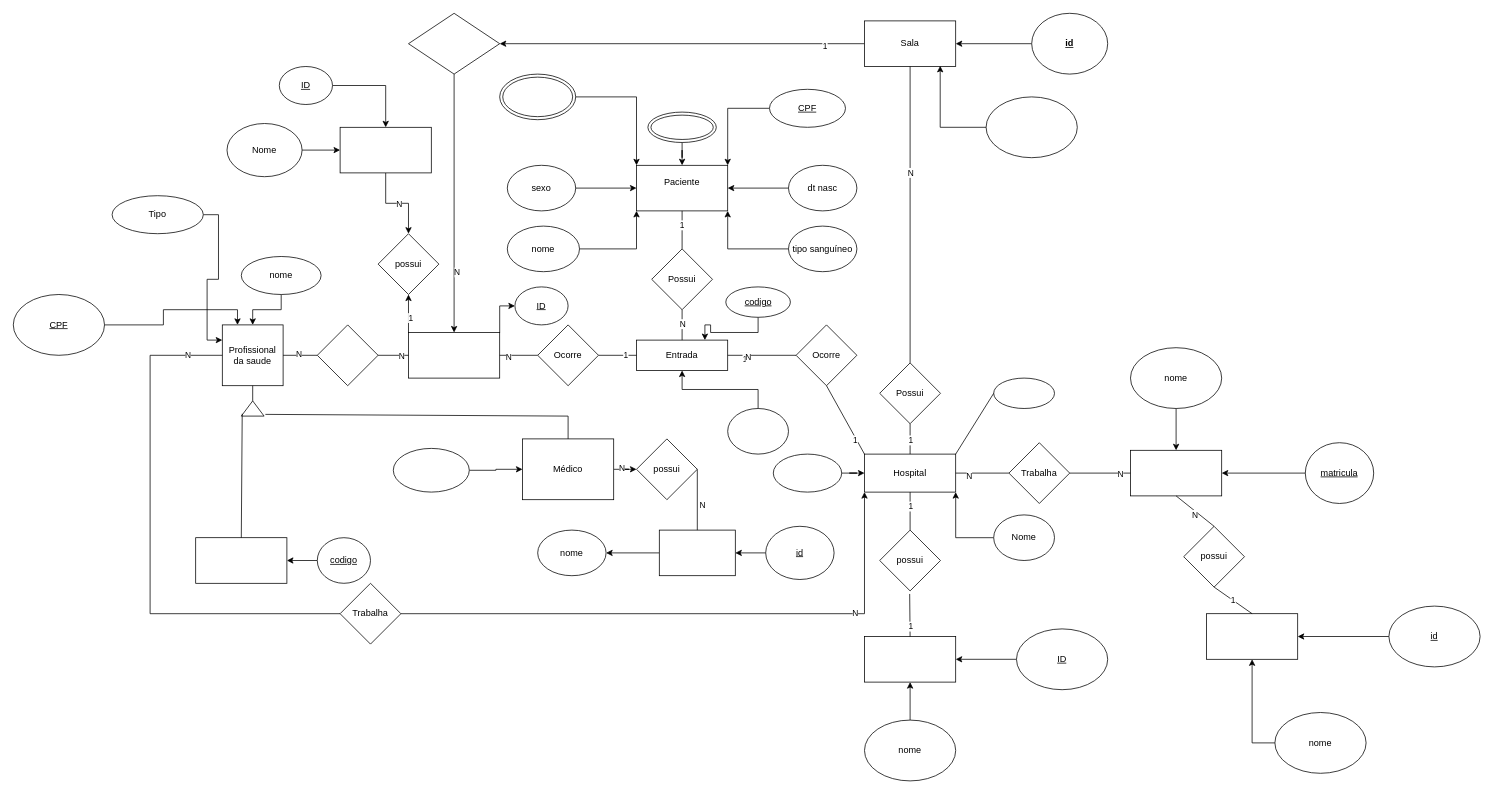
This 1493x794 diagram has some shape labels left out. The centre of each missing label's shape, as x and y in pixels:
Administrador: point (910, 659)
cep: point (807, 472)
CNES: point (1023, 392)
CRM: point (431, 470)
date_time: point (757, 431)
doenças/alergias: point (537, 96)
encarregado: point (347, 355)
Enfermeiro: point (241, 560)
Especialidade: point (697, 552)
Funcionário: point (1176, 473)
função: point (1252, 636)
numero: point (1031, 127)
Ocorre em: point (454, 43)
Procedimento: point (454, 355)
Telefone: point (681, 126)
Tipo Proc.: point (385, 150)
